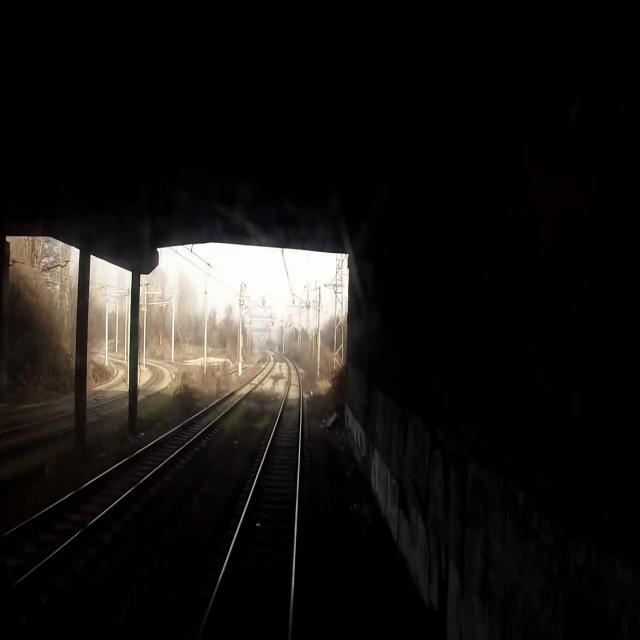rail-track: (0, 357, 272, 581), (201, 363, 299, 639)
